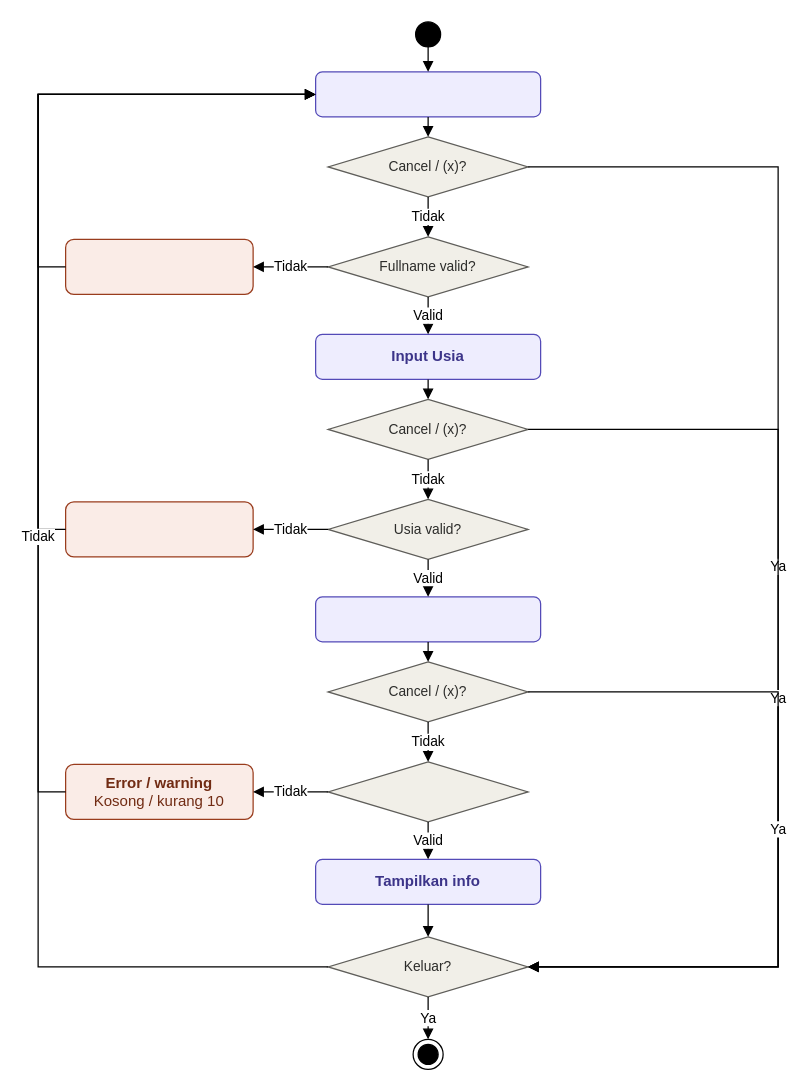
The diagram is 810 pixels wide and 1091 high, and some of its shapes have lost their labels. Each missing label, with the box of its shape:
Alamat valid?: (327, 761, 528, 822)
Dialog error Fullname kosong: (64, 238, 253, 294)
Dialog error Kosong / bukan angka: (64, 501, 253, 557)
Input Alamat: (314, 596, 541, 642)
Input Fullname: (314, 71, 541, 117)
